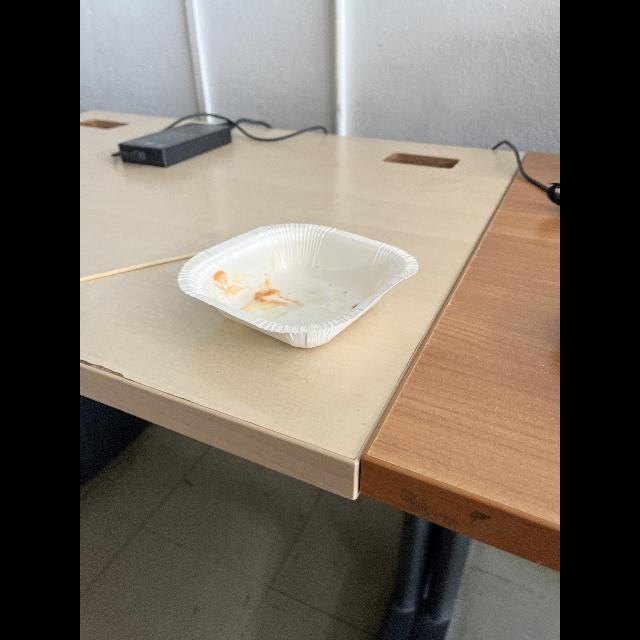cardboard_bowl: (174, 220, 420, 352)
stick: (80, 248, 200, 280)
